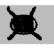not correct: (5, 5, 44, 42)
